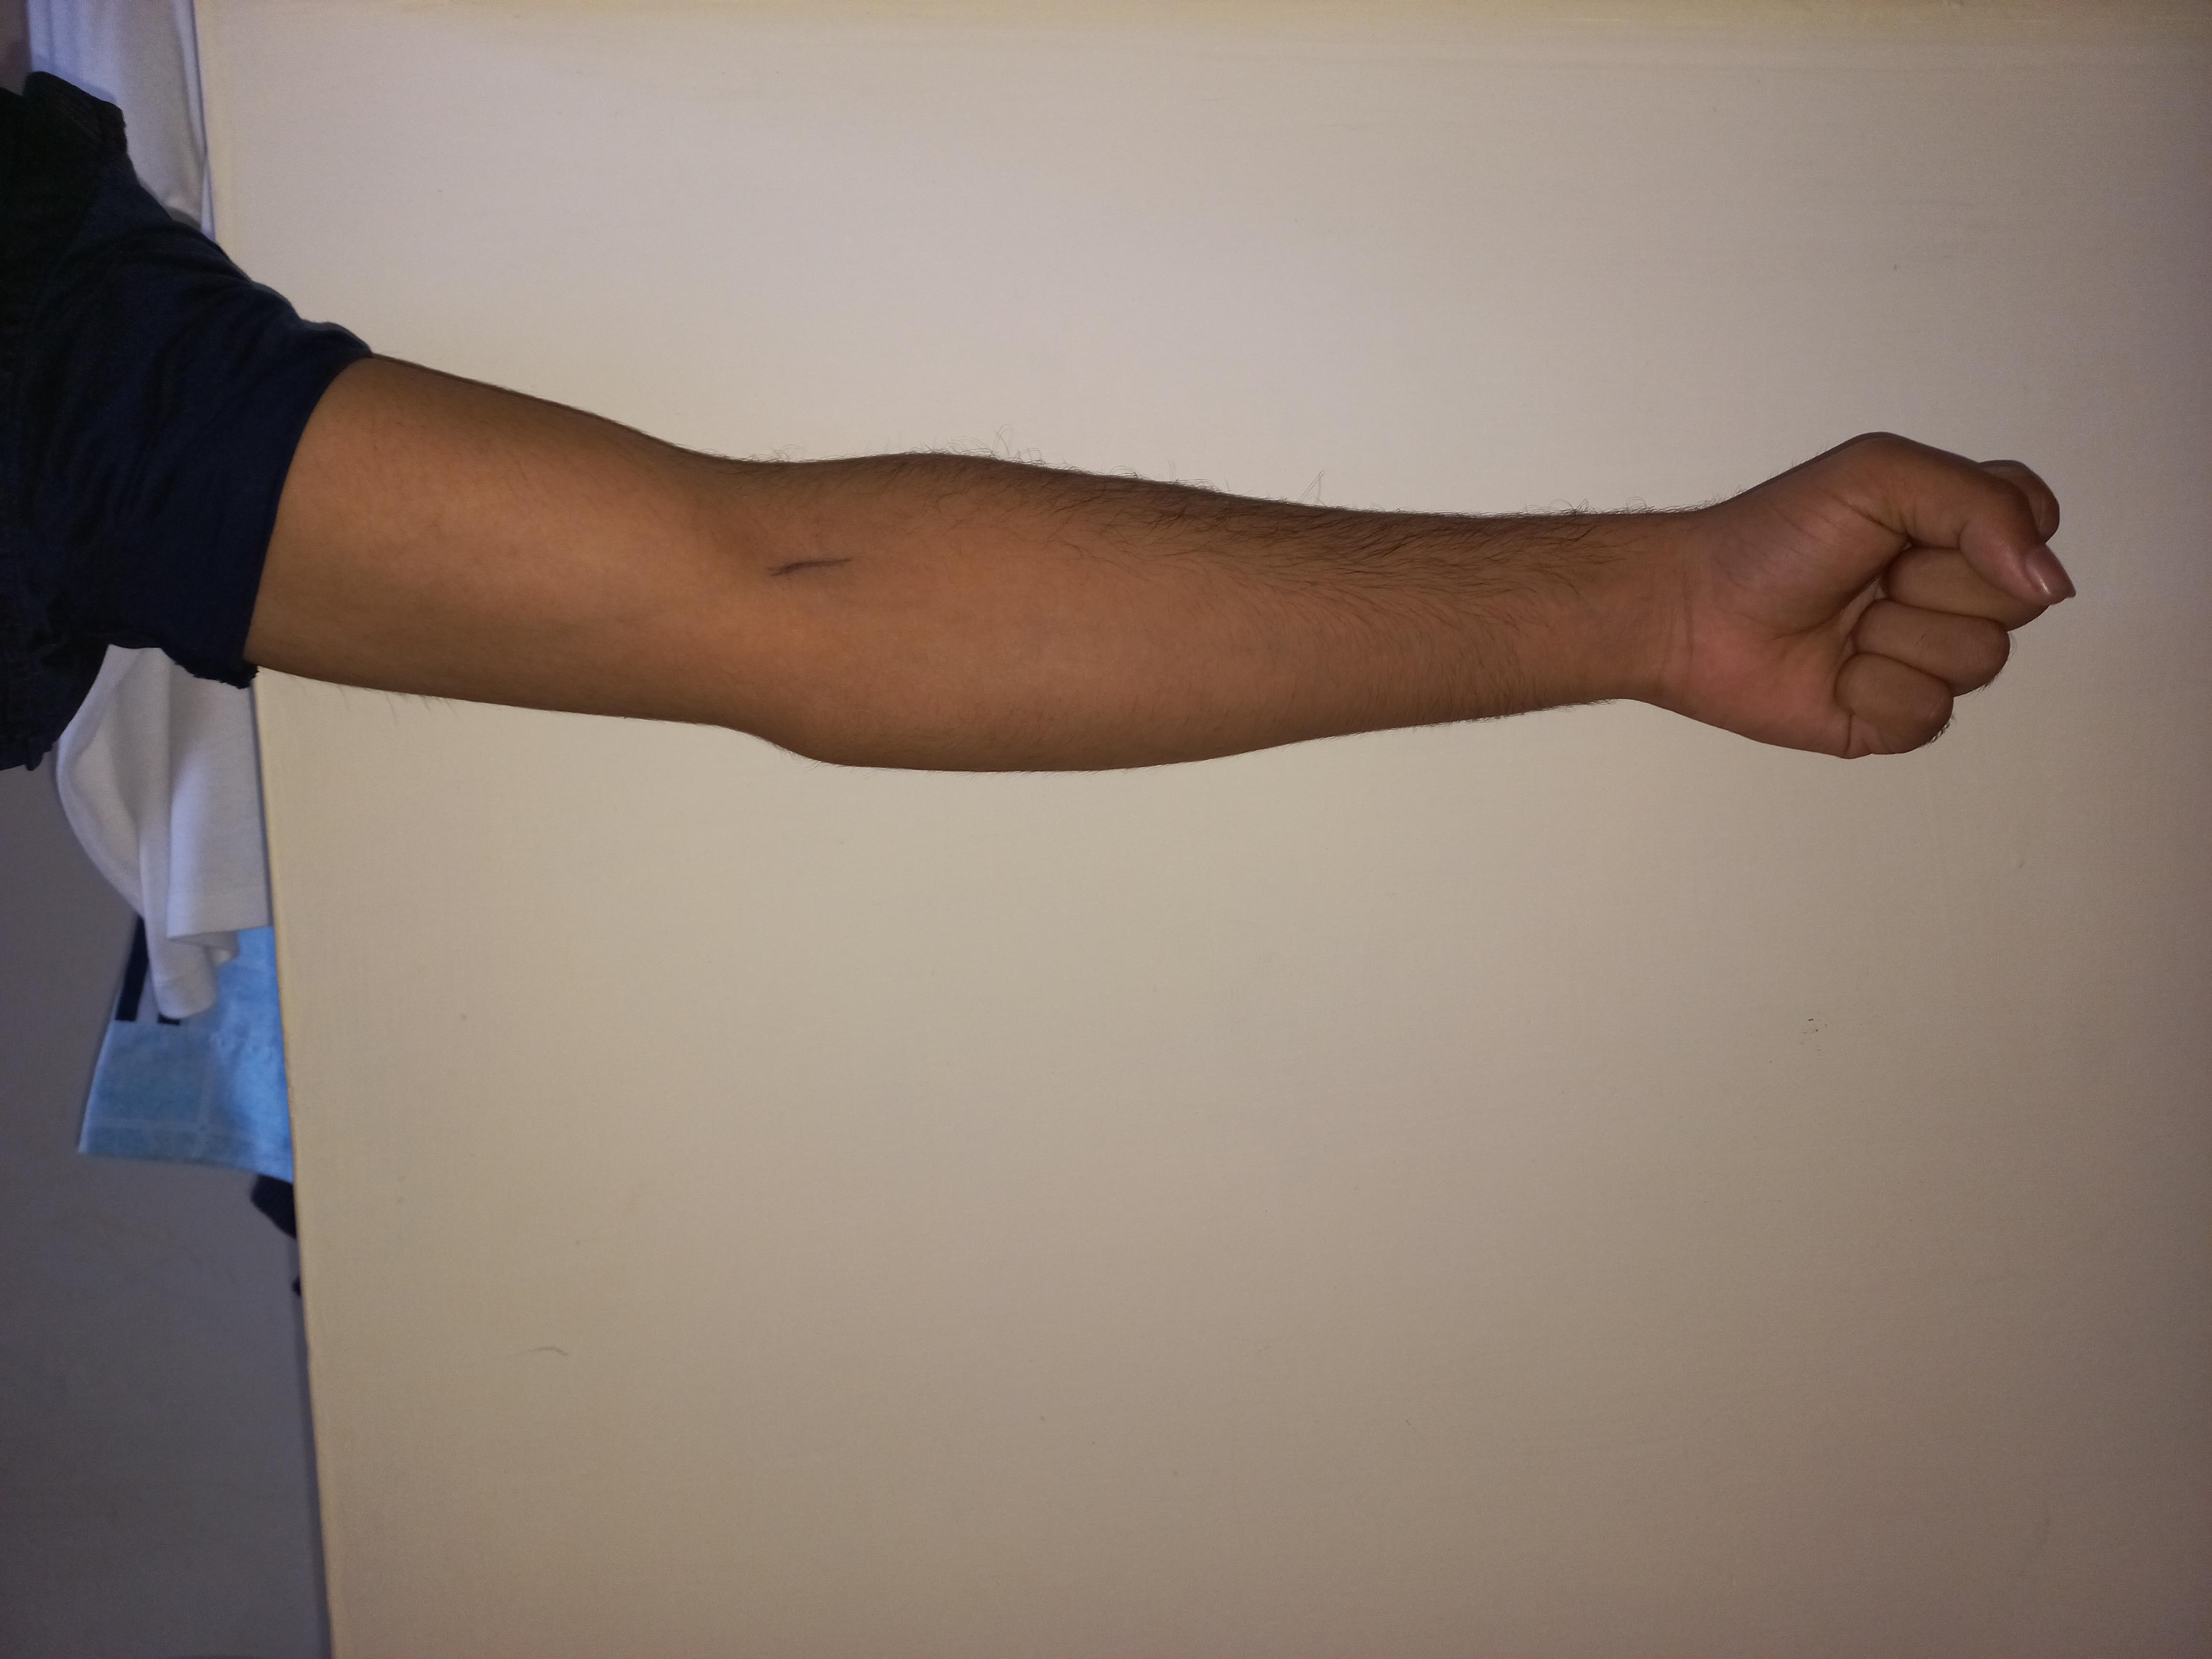vein: (747, 540, 890, 592)
